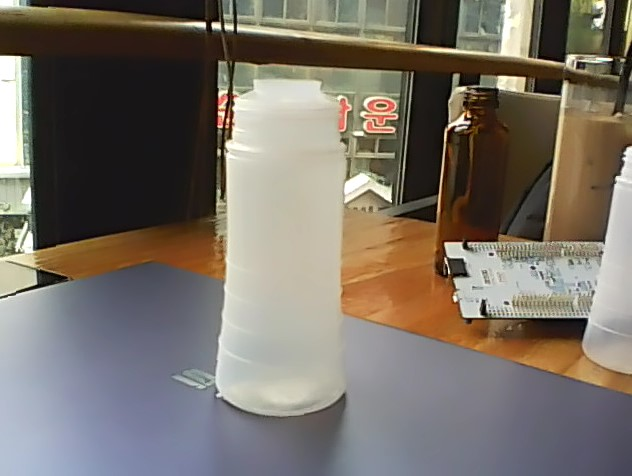Plastic: (216, 74, 347, 420)
